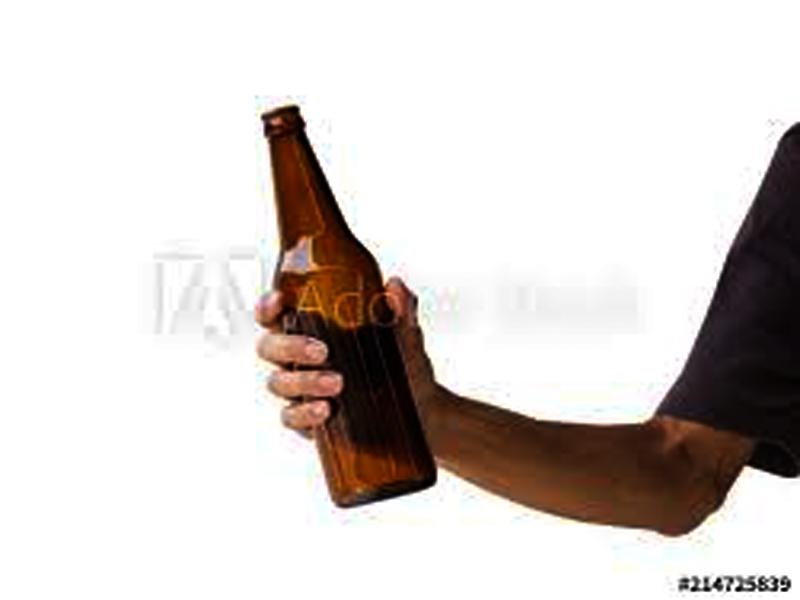Beer: (258, 104, 437, 507)
